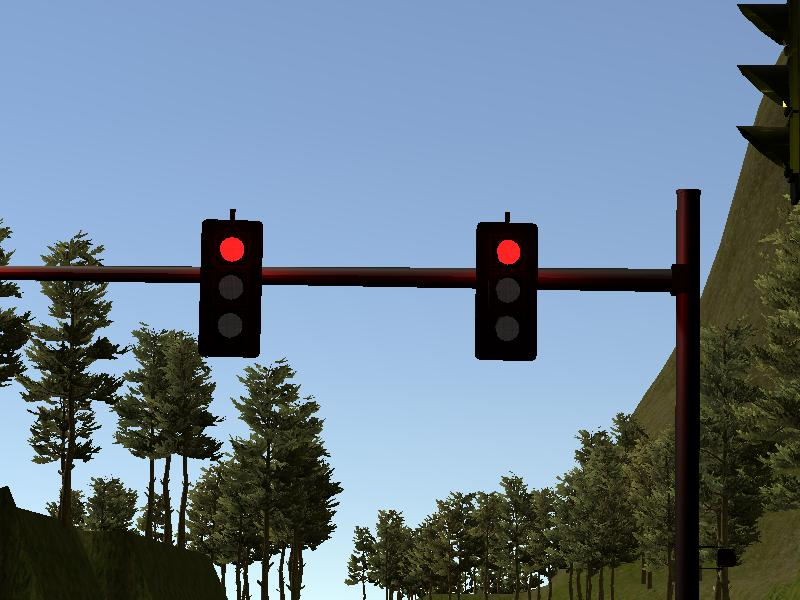Red: (477, 221, 534, 358), (203, 217, 258, 356)
